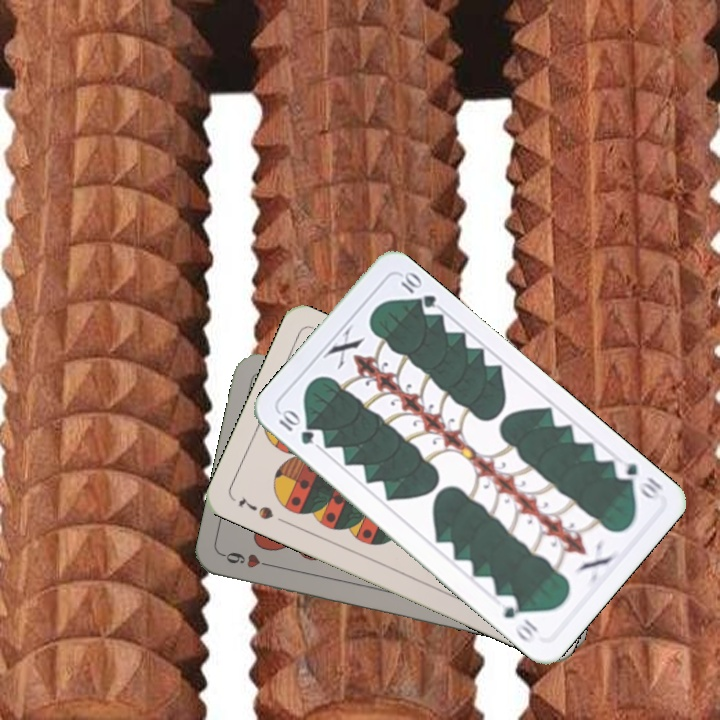G10: (610, 455, 667, 504), (273, 406, 317, 448)
H9: (219, 548, 277, 571)
S7: (234, 494, 276, 523)
